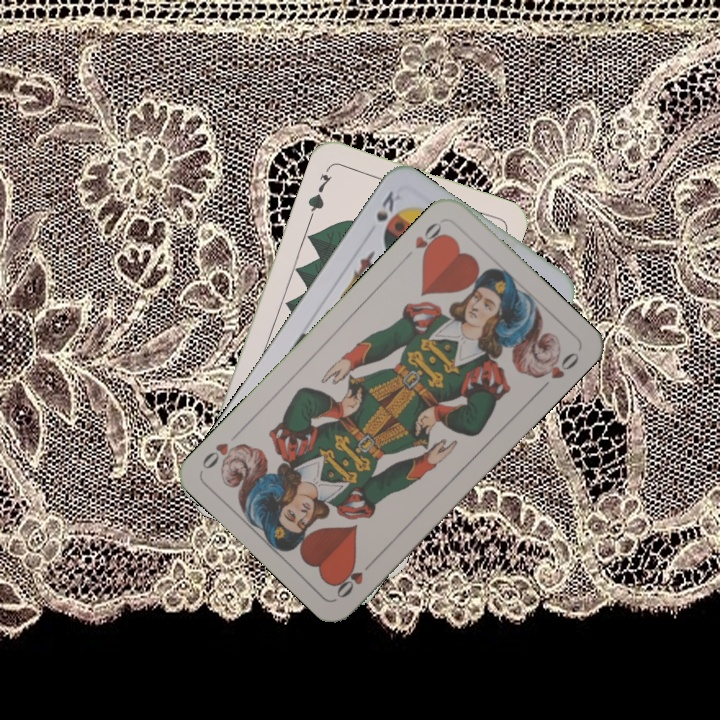G7: (304, 170, 335, 219)
HO: (332, 554, 378, 601), (410, 217, 449, 262)
SK: (372, 186, 404, 224)
